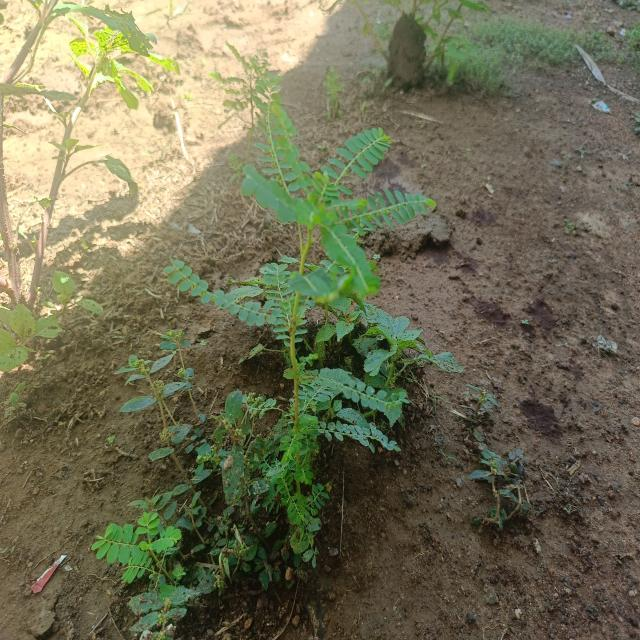weed: (86, 92, 453, 633), (467, 439, 533, 533)
